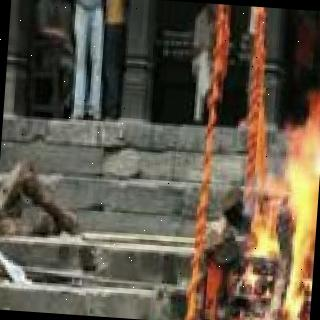fire: (237, 114, 320, 320)
